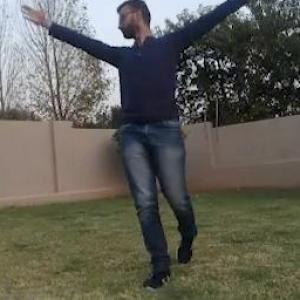takeoff: (8, 0, 243, 297)
